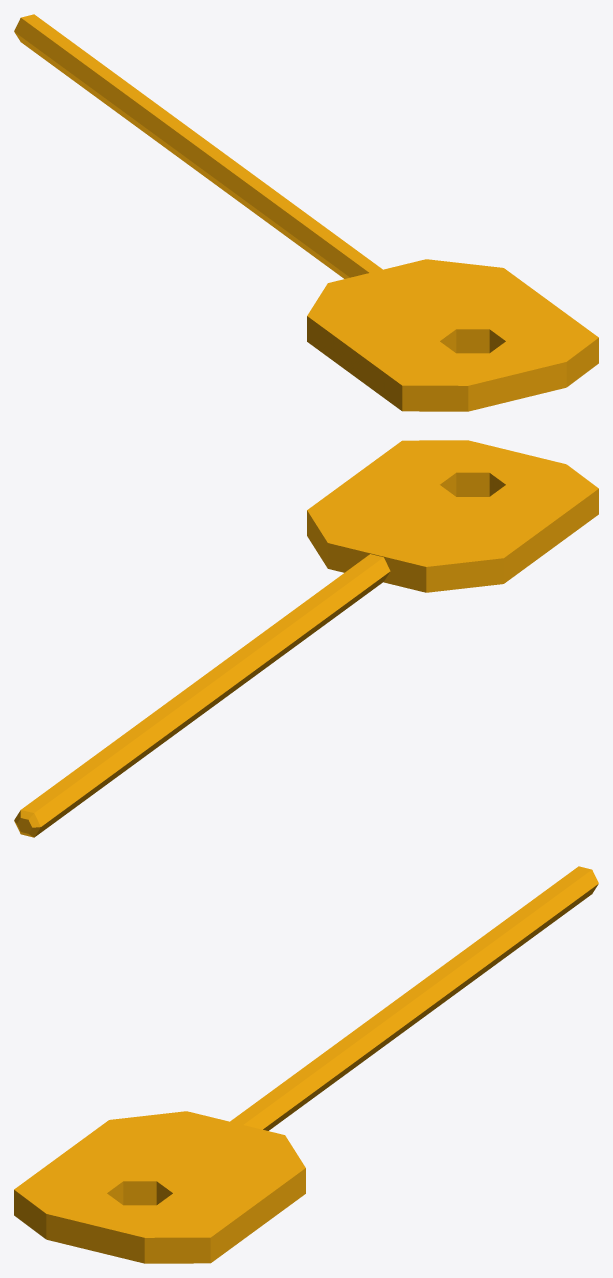
Rendered from Key_02.fbx.
3 renders of one model, top to bottom at view 1: azimuth 30°, elevation 25°; view 2: azimuth 150°, elevation 25°; view 3: azimuth 330°, elevation 25°, orthographic.
Parts seen in each view (by area): view 1: Key_02; view 2: Key_02; view 3: Key_02.
Part boxes in pixels (x1,y1,x2,y2): Key_02: [14, 14, 598, 411]; Key_02: [14, 440, 598, 837]; Key_02: [14, 866, 598, 1263].
Size of the model in its own units: 11.67 by 1.46 by 50.6.
